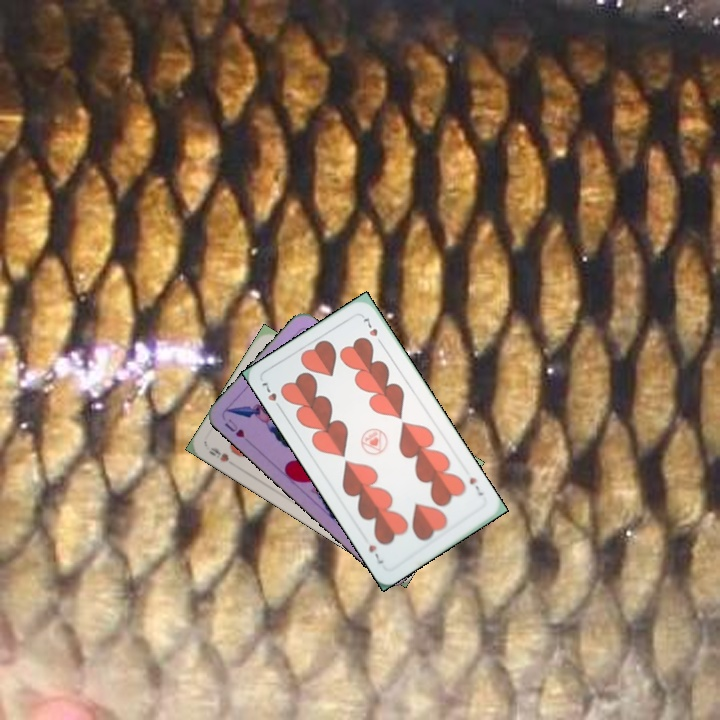H7: (257, 378, 285, 413), (465, 473, 486, 498)
H9: (205, 443, 231, 465)
HU: (220, 415, 247, 440)
